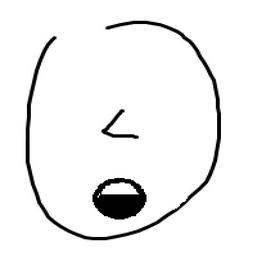open_mouth: (86, 173, 151, 228)
pointy_nose: (101, 105, 147, 145)
